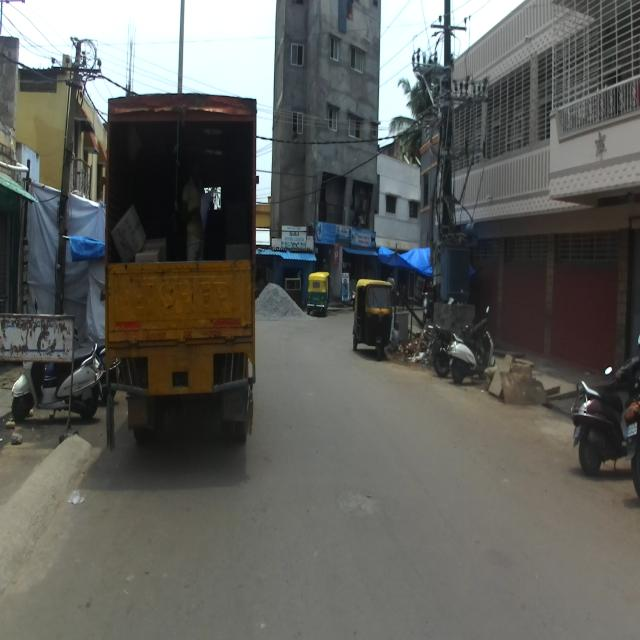barrier ahead at: (0, 311, 77, 440)
electric pole ahead at: (416, 1, 467, 320), (43, 28, 98, 306)
truck ahead at: (106, 96, 259, 450)
